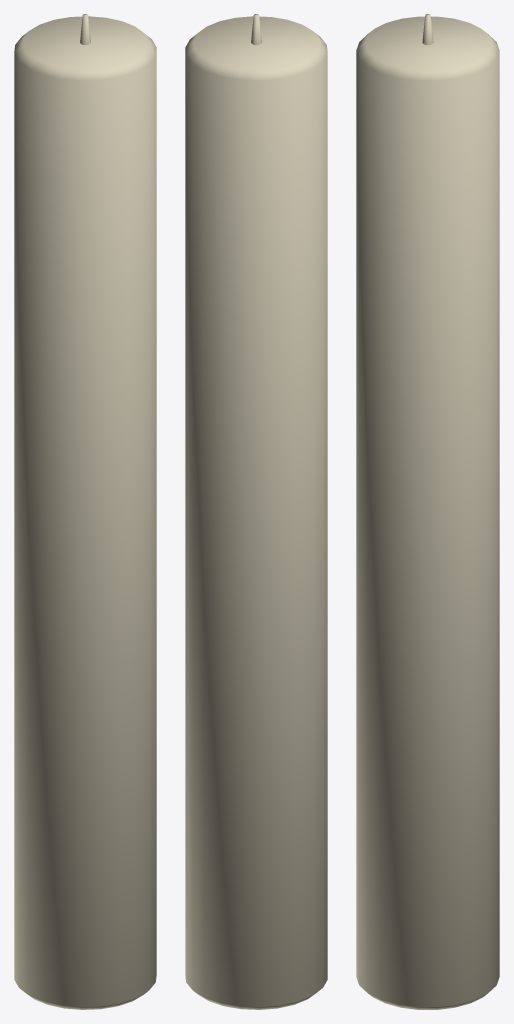
File: 1bbe5d30-026a-47c8-b48d-c59e612ebfa8.glb
The picture shows the model from 3 angles, left to right: view 1: azimuth 30°, elevation 25°; view 2: azimuth 150°, elevation 25°; view 3: azimuth 270°, elevation 25°; orthographic projection.
Visible parts, largest first — view 1: Cylinder.001_Cylinder.002; view 2: Cylinder.001_Cylinder.002; view 3: Cylinder.001_Cylinder.002.
Boxes of the visible parts, x1,y1,x2,y2 form: Cylinder.001_Cylinder.002: (14,14,156,1009); Cylinder.001_Cylinder.002: (185,14,327,1009); Cylinder.001_Cylinder.002: (356,14,499,1009).
Size of the model in its own units: 0.0237 by 0.1785 by 0.024.
